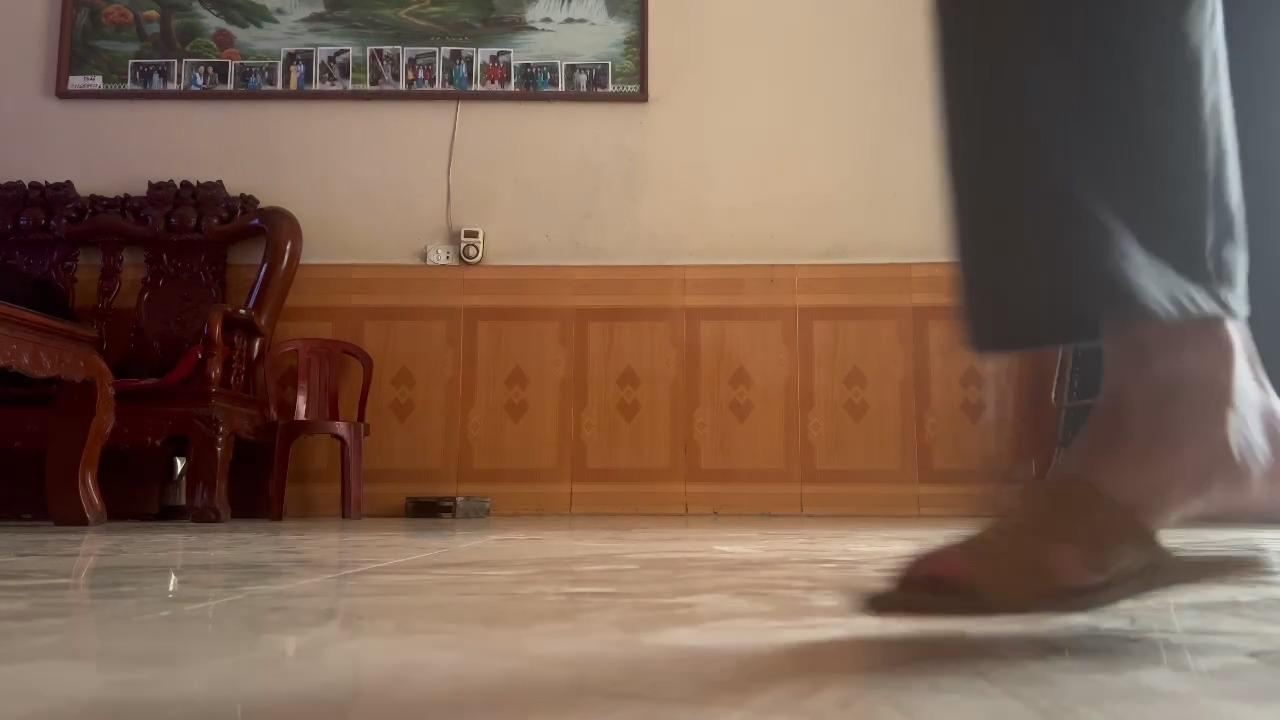no-boot: (846, 387, 1280, 653)
